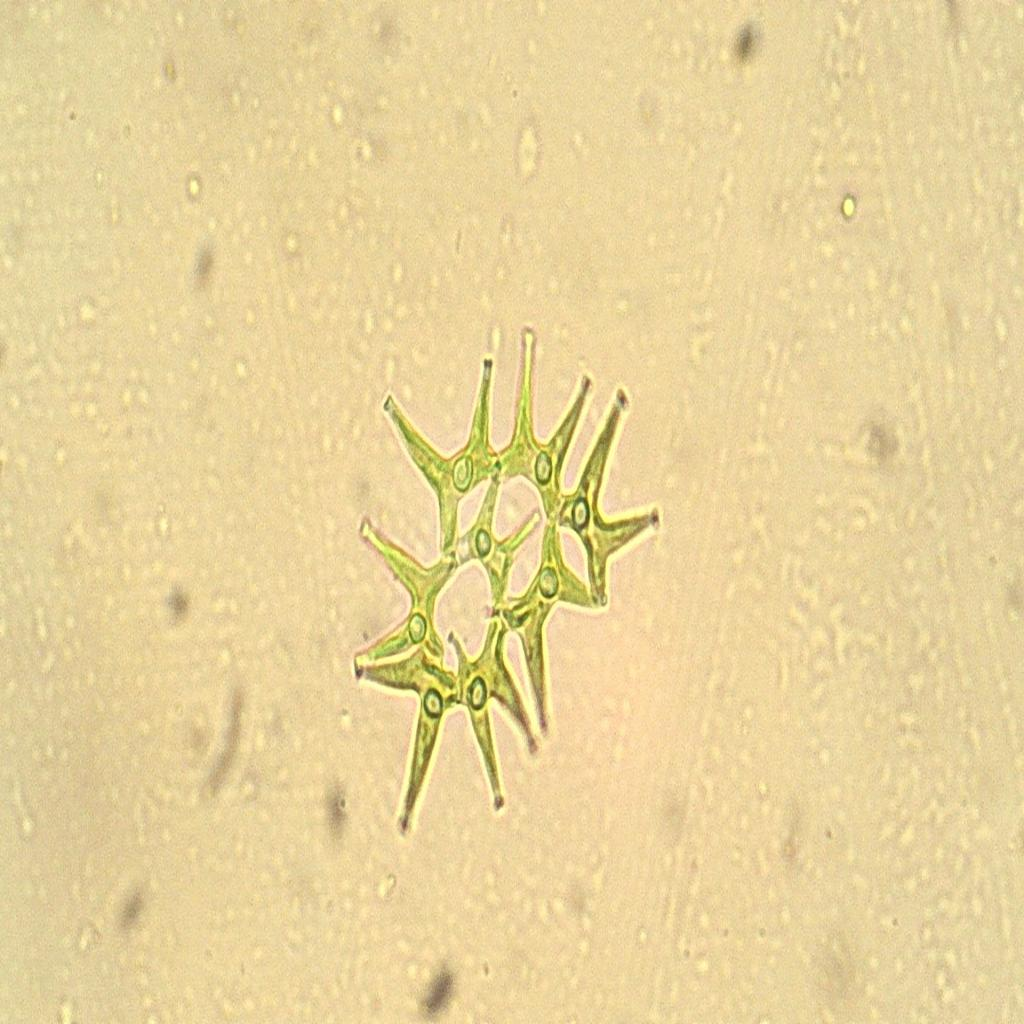Pediastrum_CFI: (326, 298, 664, 866)
